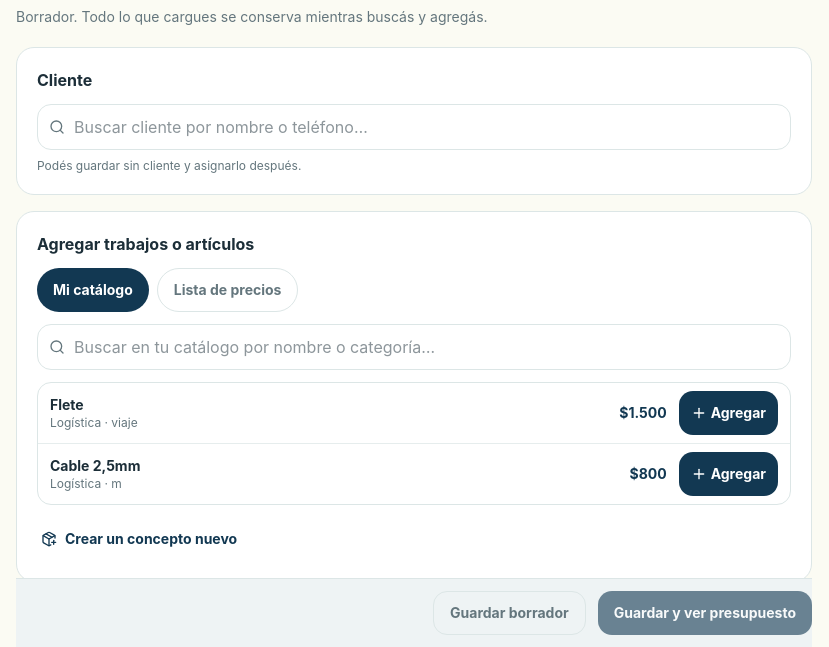
it: líneas y conceptos propios › modificar precio y cantidad de una línea NO toca el catálogo
Click the button with aria-label "Agregar Flete" at x=728, y=413, box [679,391,778,435]
(page scrolled)
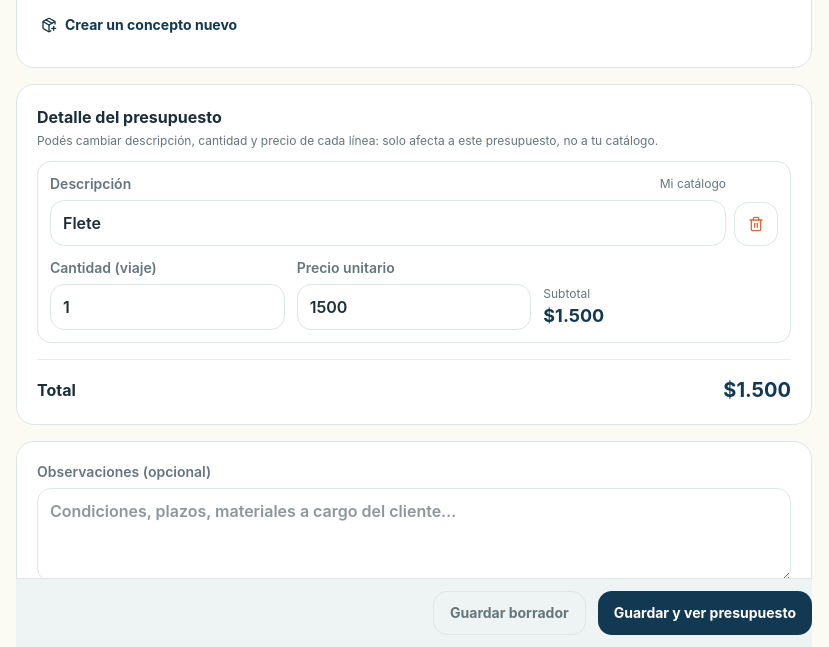
Replace the text in the field labelled "Precio unitario" with "2000" at x=414, y=307, box [297,284,531,330]
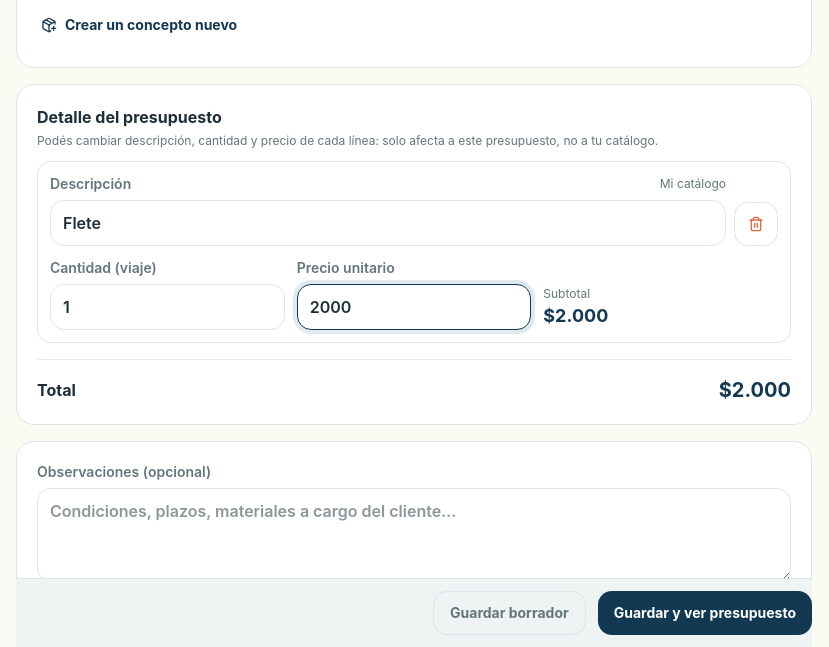
Replace the text in the field labelled "Cantidad (viaje)" with "3" at x=167, y=307, box [50,284,285,330]
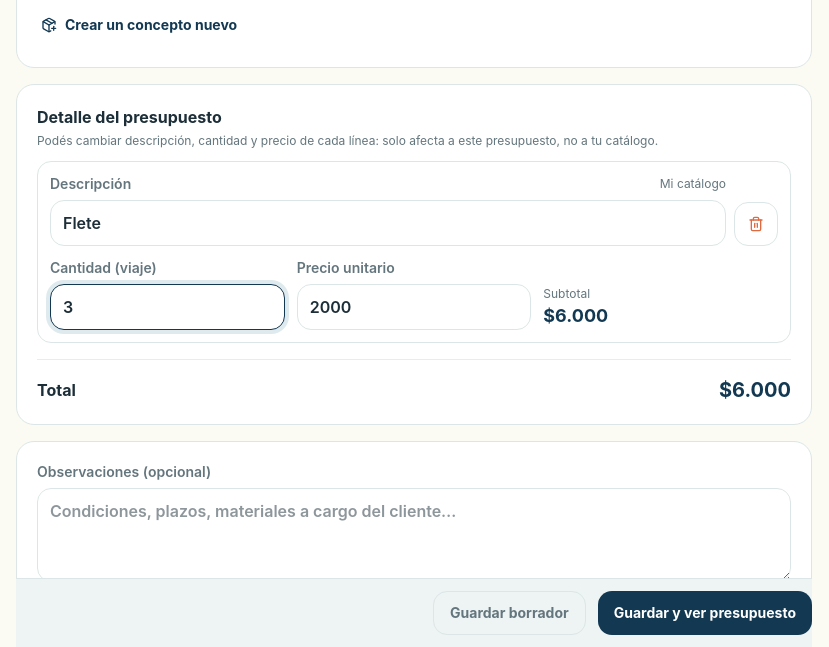
Expected: the text with test id "quote-total" shows "6.000", [719,378,791,402]
